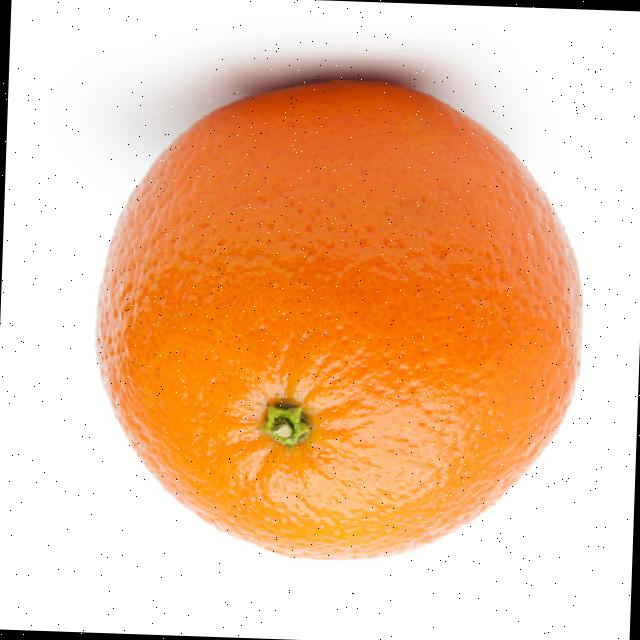Jeruk: (86, 71, 590, 572)
